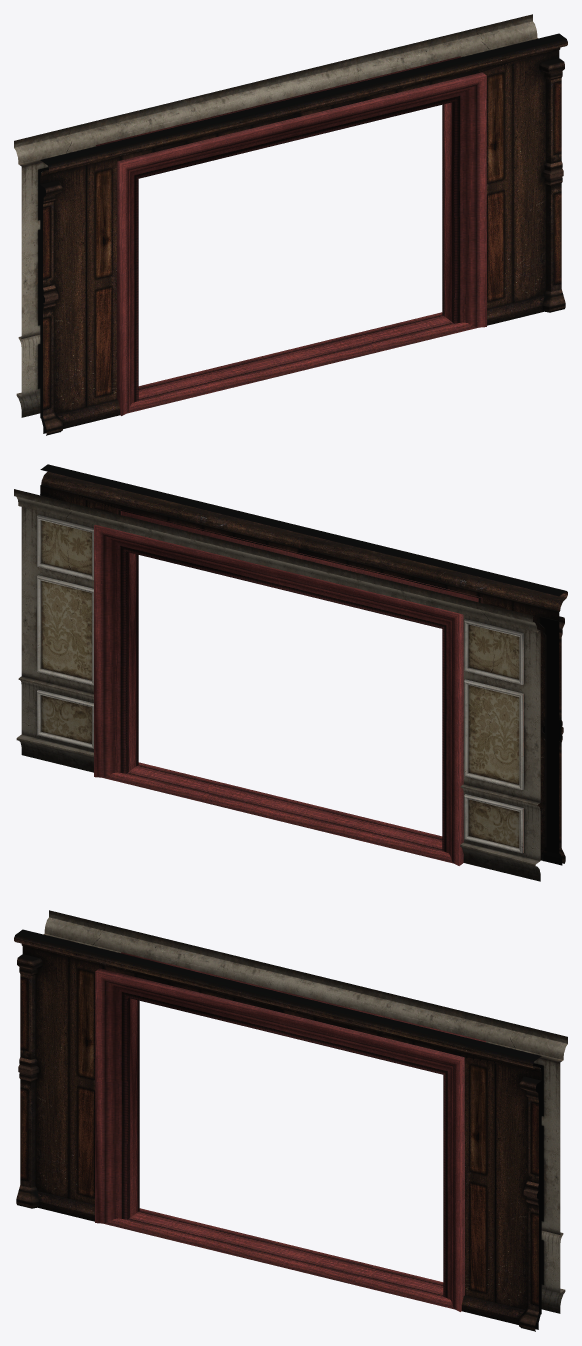
File: music_room_doorway.DAE
3 renders of one model, top to bottom at view 1: azimuth 30°, elevation 25°; view 2: azimuth 150°, elevation 25°; view 3: azimuth 330°, elevation 25°, orthographic.
Parts seen in each view (by area): view 1: Box002, Box003, Box001; view 2: Box001, Box003, Box002; view 3: Box002, Box003, Box001.
Boxes of the visible parts, <box> form: Box002: <box>40,33,567,435</box>; Box003: <box>95,56,486,415</box>; Box001: <box>14,14,538,417</box>; Box001: <box>14,489,540,881</box>; Box003: <box>94,508,482,865</box>; Box002: <box>40,464,567,865</box>; Box002: <box>14,929,541,1331</box>; Box003: <box>95,952,486,1311</box>; Box001: <box>43,910,567,1313</box>.
Size of the model in its own units: 8 by 4 by 0.9352.
3 materials, 3 textured.
